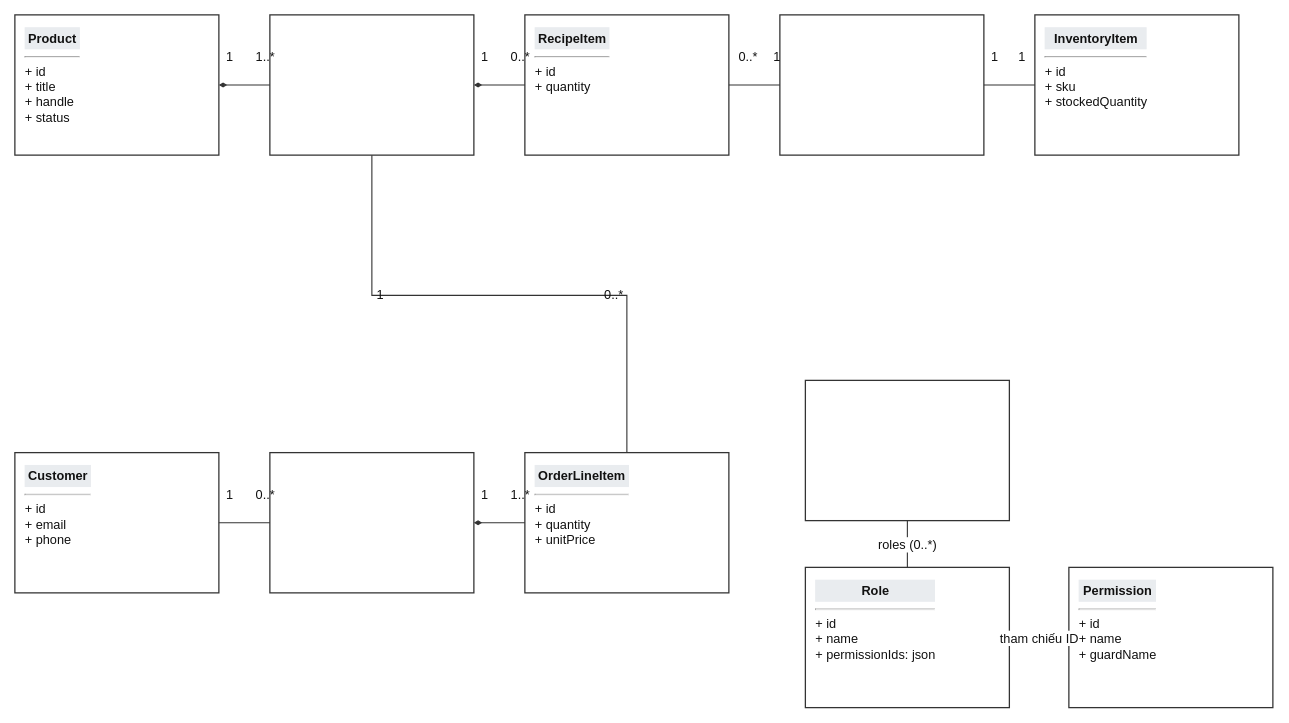
The diagram is 1289 pixels wide and 723 high, and some of its shapes have lost their labels. Each missing label, with the centre of its shape:
Ingredient + id + name + unit + costPrice: pixel 881 84
Order + id + status + total + shippingAddress: pixel 371 522
ProductVariant + id + sku + price: pixel 371 84
User + id + email + metadata.roles: pixel 907 450
